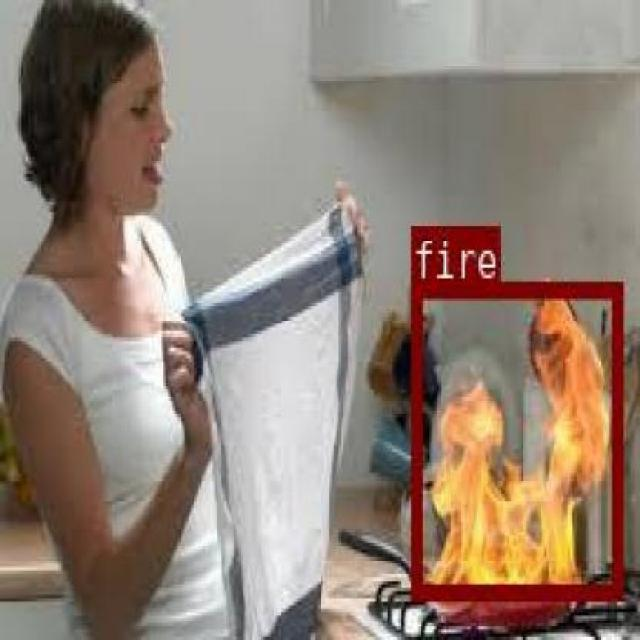Fire: (211, 317, 516, 438)
